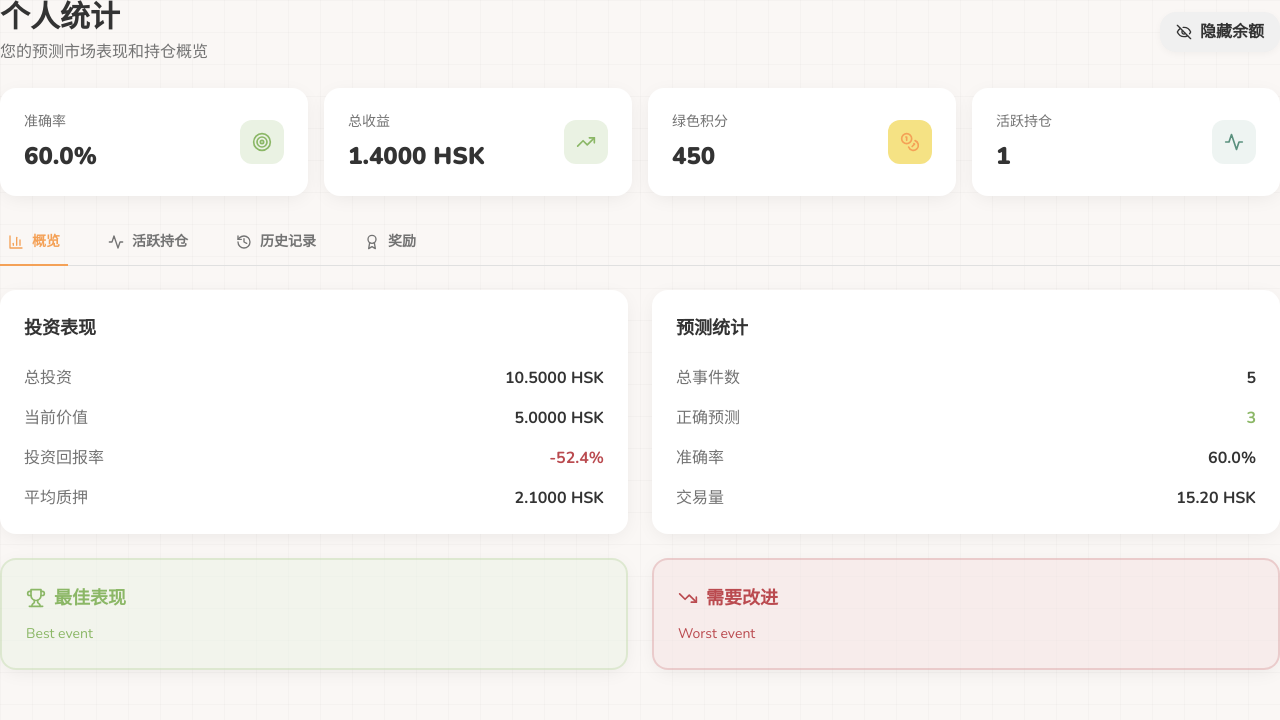
UserStats › switches between tabs correctly
Expected: the heading "投资表现" is shown, x1=24 y1=316 x2=96 y2=340
# Switch to positions tab
What coordinates should you click on to do the following:
click the button "活跃持仓"
I would click on:
 (148, 243)
Its box is x1=100 y1=220 x2=196 y2=266.
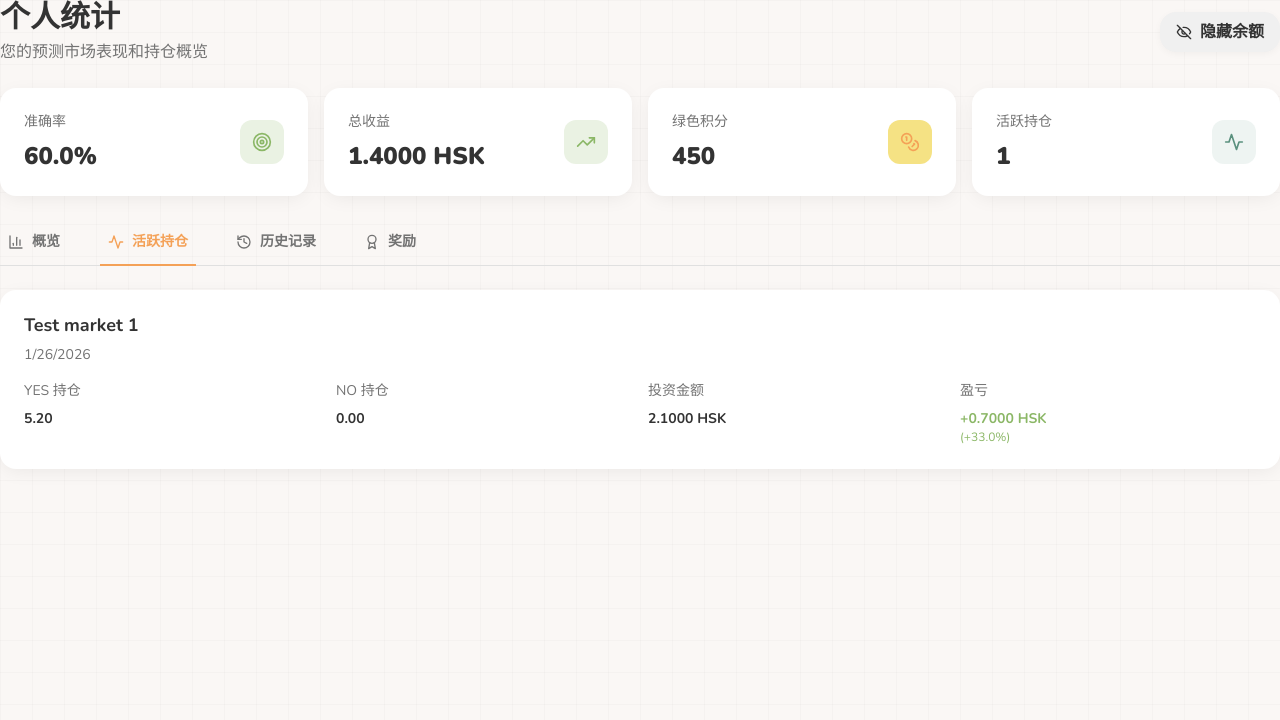
Now the heading "Test market 1" is shown, box x1=24 y1=313 x2=138 y2=337
# Switch to history tab
What coordinates should you click on to do the following:
click the button "历史记录"
I would click on:
 (276, 243)
Its box is x1=228 y1=220 x2=324 y2=266.
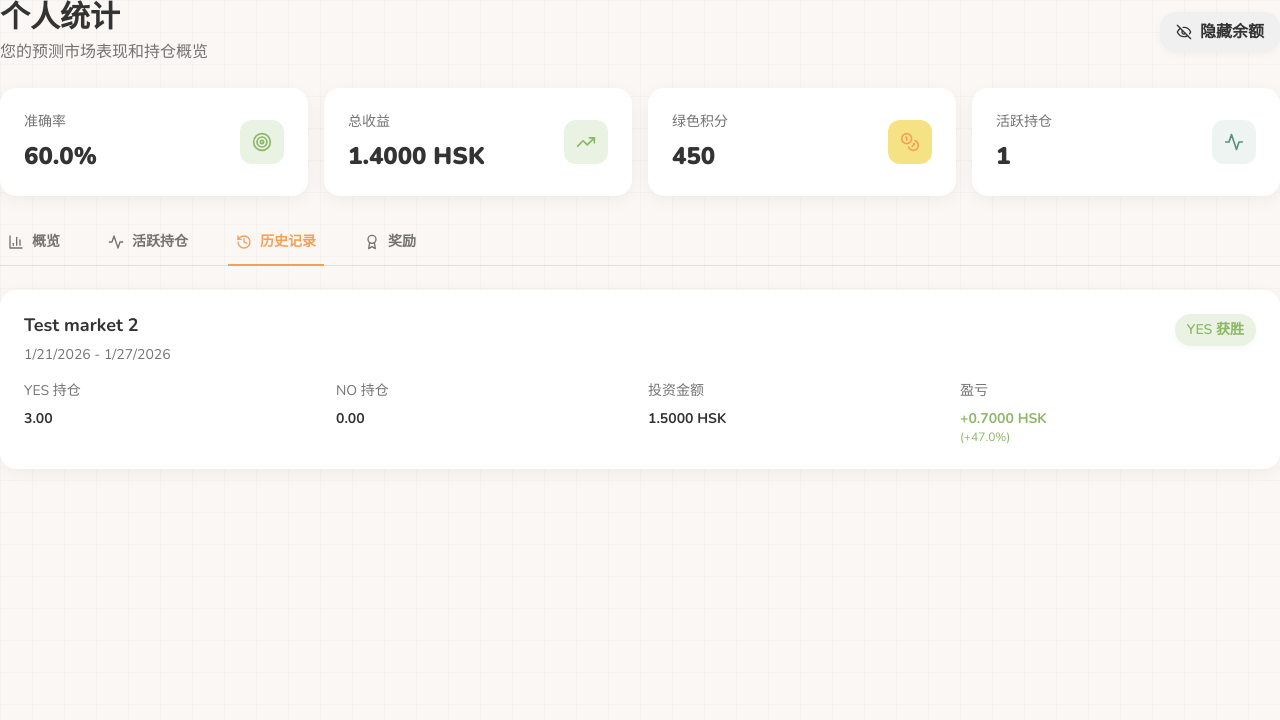
Now the heading "Test market 2" is shown, box x1=24 y1=313 x2=138 y2=337
Now the text "YES 获胜" is shown, box x1=1175 y1=314 x2=1256 y2=346
# Switch to rewards tab
What coordinates should you click on to do the following:
click the button "奖励"
I would click on:
 (390, 243)
Its box is x1=356 y1=220 x2=424 y2=266.
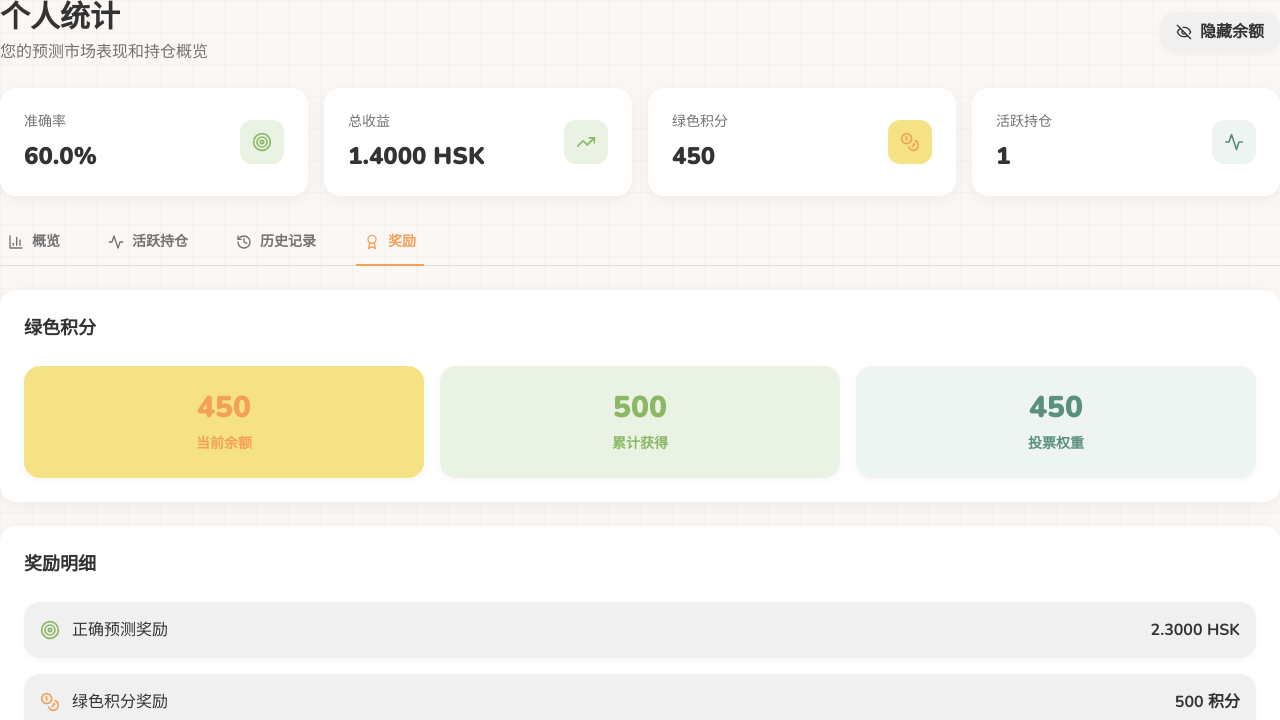
Now the text "绿色积分" is shown 2 times, box x1=672 y1=112 x2=728 y2=132; x1=24 y1=316 x2=96 y2=340
Now the text "当前余额" is shown, box x1=196 y1=434 x2=252 y2=453
